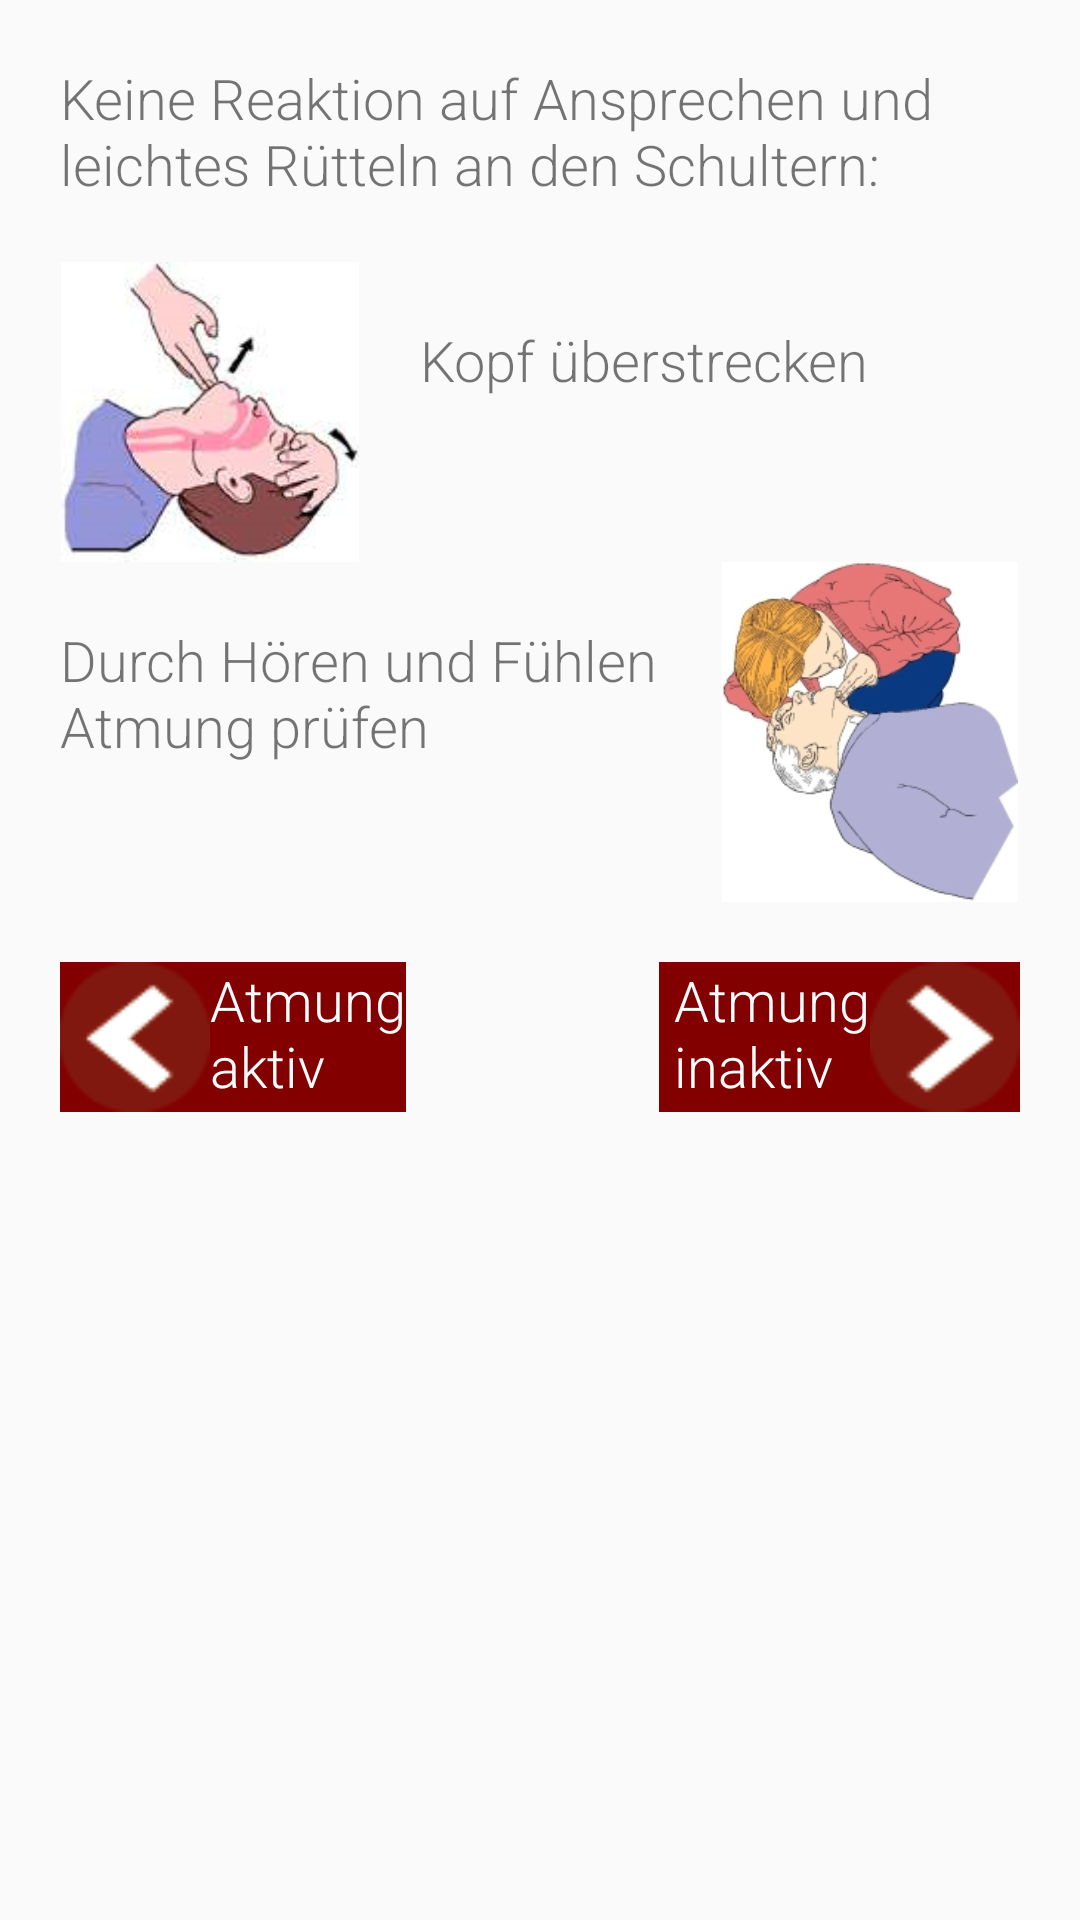

Screen size 1080px x 1920px. Icon name, then its box in pixels as (x1, y1, x2, y2):
left: (60, 962, 210, 1112)
pic atem kontrolle: (723, 563, 1018, 900)
pic ueberstrecken: (64, 262, 358, 562)
right: (870, 962, 1020, 1112)
